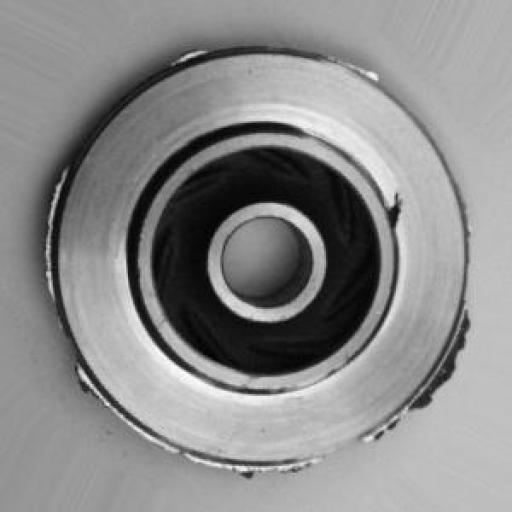defect: (28, 27, 484, 482), (355, 164, 431, 252)
